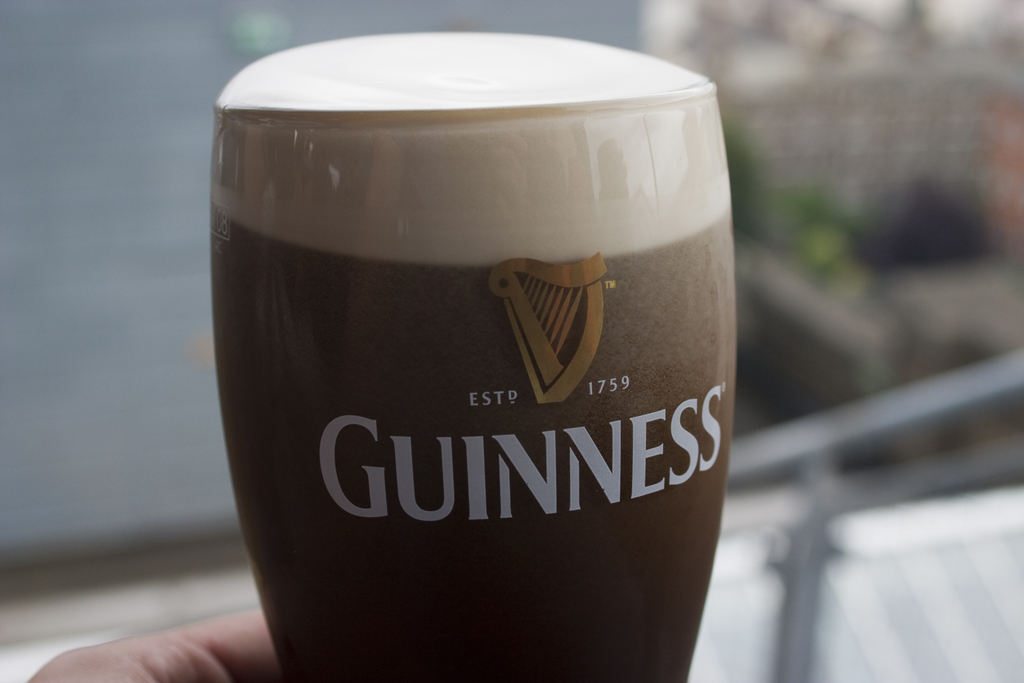Beer: (215, 27, 738, 682)
